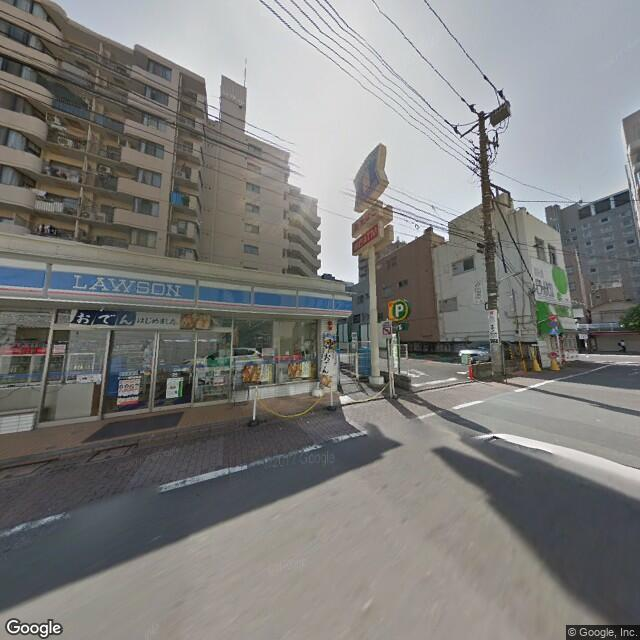lawson: (2, 251, 354, 322), (352, 140, 387, 203)
